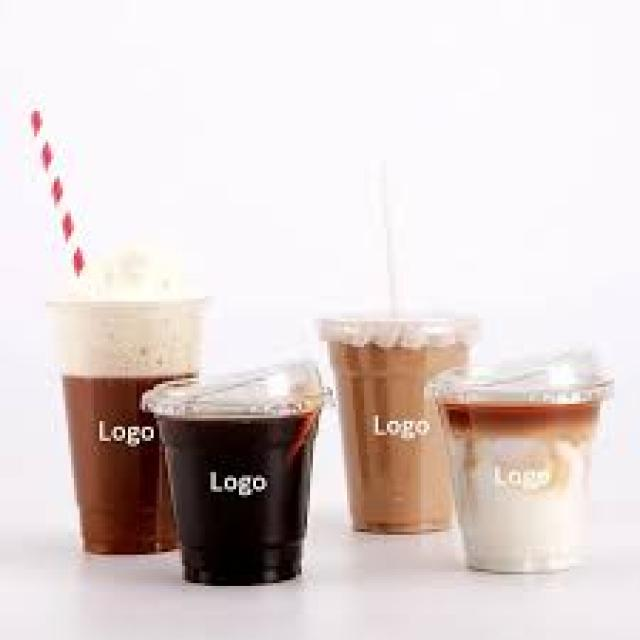bottle: (142, 362, 321, 584), (48, 302, 204, 553), (436, 352, 610, 572), (323, 319, 478, 532)
